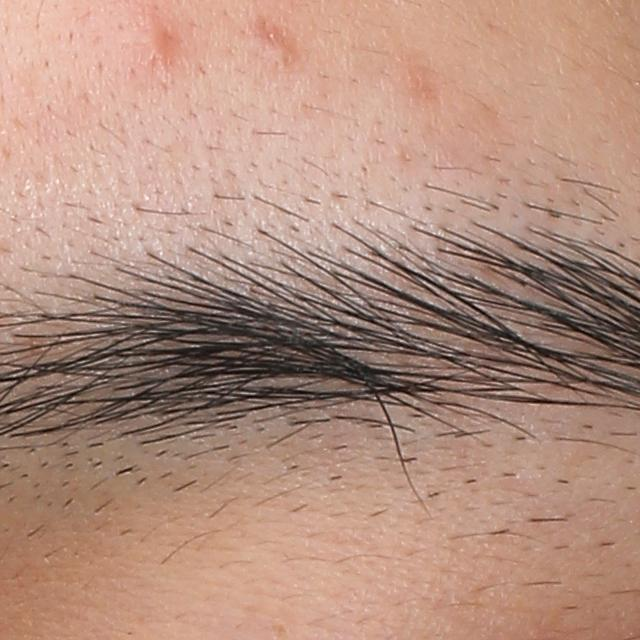papule: (143, 11, 177, 70)
